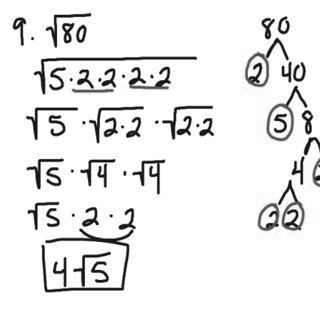.: (63, 164, 79, 179), (102, 209, 116, 223), (77, 116, 89, 131), (145, 70, 157, 83), (28, 32, 39, 46), (118, 165, 130, 177), (68, 210, 79, 223), (151, 116, 161, 129), (94, 74, 105, 85), (194, 121, 202, 130), (67, 74, 73, 85), (120, 72, 126, 82), (120, 124, 126, 134)
9: (6, 12, 29, 49)
